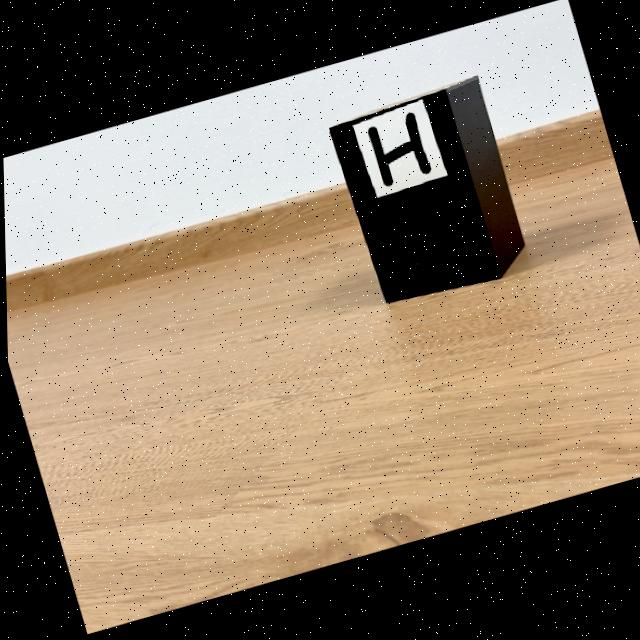H: (367, 114, 430, 187)
